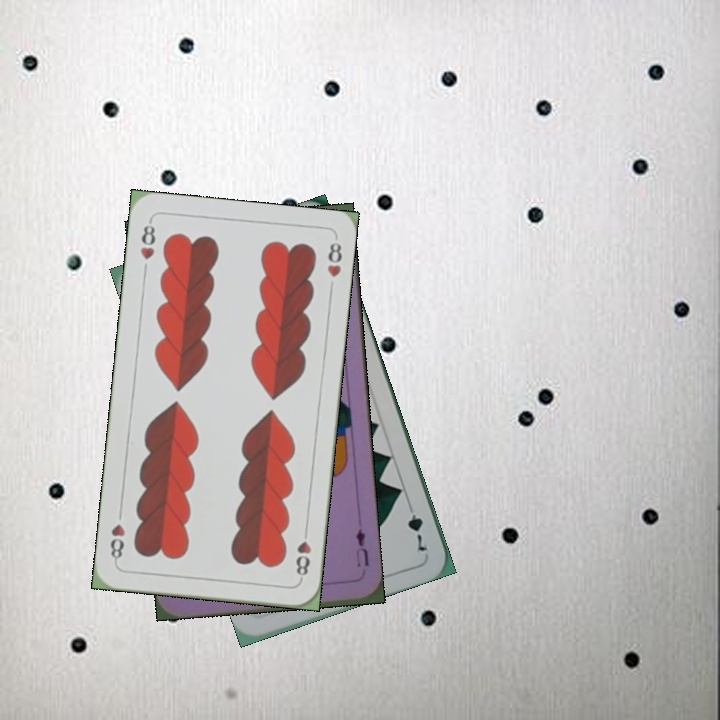EU: (352, 524, 371, 570)
G7: (403, 499, 431, 554)
H8: (292, 523, 314, 583), (136, 216, 158, 263)
